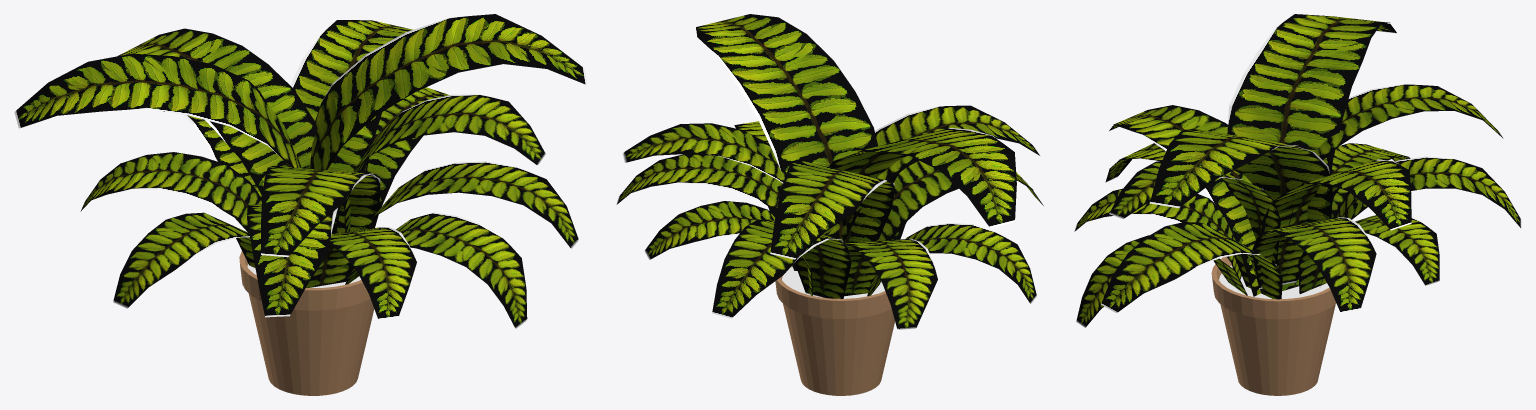
The model's file is sweethome3d-scopia-boston-fern.glb.
The picture shows the model from 3 angles, left to right: view 1: azimuth 30°, elevation 25°; view 2: azimuth 150°, elevation 25°; view 3: azimuth 270°, elevation 25°; orthographic projection. The views are drawn at different scales.
Visible parts, largest first — view 1: Leaves.012, Leaves, Flowerpot, Leaves.014, Leaves.010, Leaves.002, Leaves.011, Leaves.007, Leaves.013, Leaves.003, Leaves.001, Leaves.008 (+3 smaller); view 2: Leaves.012, Flowerpot, Leaves, Leaves.014, Leaves.006, Leaves.007, Leaves.013, Leaves.004, Leaves.008, Leaves.010, Leaves.005, Leaves.009 (+1 smaller); view 3: Leaves, Flowerpot, Leaves.012, Leaves.003, Leaves.004, Leaves.013, Leaves.010, Leaves.014, Leaves.006, Leaves.005, Leaves.011, Leaves.001 (+3 smaller).
Boxes of the visible parts, x1,y1,x2,y2 form: Leaves.012: (309,14,587,169); Leaves: (14,53,301,167); Flowerpot: (239,251,374,395); Leaves.014: (118,28,317,195); Leaves.010: (261,166,380,257); Leaves.002: (345,212,527,329); Leaves.011: (344,94,545,231); Leaves.007: (80,152,261,232); Leaves.013: (290,20,412,172); Leaves.003: (362,161,578,249); Leaves.001: (306,227,416,319); Leaves.008: (113,212,255,308); Leaves.012: (696,14,877,243); Flowerpot: (775,266,894,395); Leaves: (823,128,1016,235); Leaves.014: (770,159,894,259); Leaves.006: (712,219,851,318); Leaves.007: (831,238,937,330); Leaves.013: (622,123,785,183); Leaves.004: (616,154,782,211); Leaves.008: (867,223,1036,304); Leaves.010: (840,105,1040,243); Leaves.005: (644,201,812,295); Leaves.009: (876,160,1043,241); Leaves: (1227,14,1396,175); Flowerpot: (1211,257,1336,395); Leaves.012: (1149,128,1332,223); Leaves.003: (1101,222,1282,313); Leaves.004: (1252,217,1376,313); Leaves.013: (1261,159,1411,291); Leaves.010: (1109,105,1260,296); Leaves.014: (1288,84,1504,226); Leaves.006: (1320,156,1521,286); Leaves.005: (1298,215,1439,293); Leaves.011: (1109,160,1280,265); Leaves.001: (1074,188,1241,279).
Bounding box in the file's own units: 64.96 × 44.46 × 60.96.
3 materials, 1 textured.
